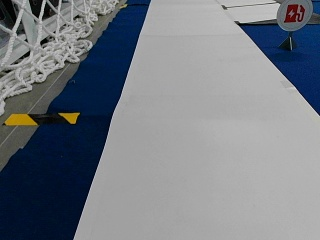battery: (275, 0, 313, 31)
